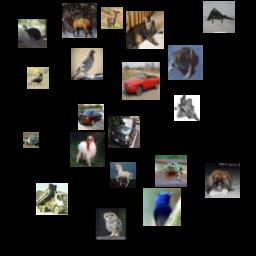airplane: (203, 1, 235, 33), (174, 95, 200, 121), (23, 132, 39, 148)
automobile: (122, 62, 160, 100), (108, 116, 140, 148), (78, 104, 104, 130)
bird: (143, 188, 181, 226), (95, 208, 127, 240), (71, 48, 103, 80), (18, 19, 47, 48), (27, 67, 49, 89)
cat: (126, 11, 164, 49)
deer: (62, 3, 97, 38), (101, 7, 123, 29)
dog: (205, 163, 240, 198), (70, 132, 105, 167)
frog: (168, 45, 203, 80), (155, 155, 187, 187)
truck: (36, 183, 68, 215)
